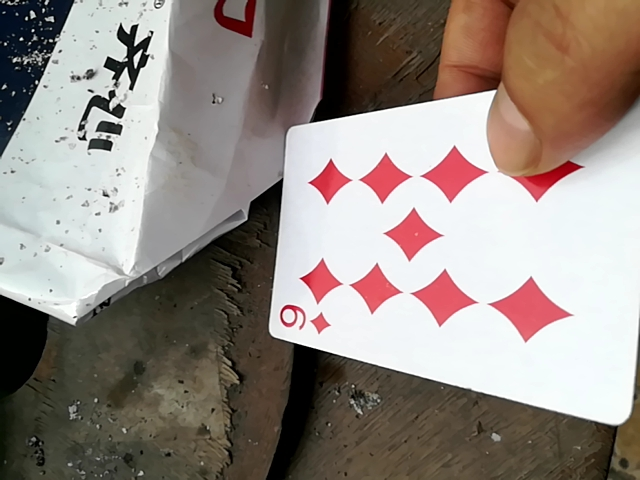fk 9: (265, 78, 640, 423)
